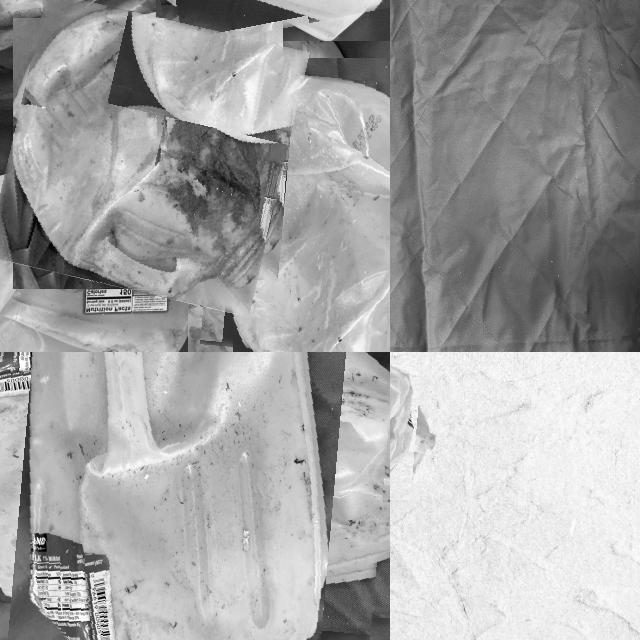milk-jug: (0, 352, 390, 640), (0, 5, 295, 303), (205, 75, 390, 352), (390, 361, 428, 493)
